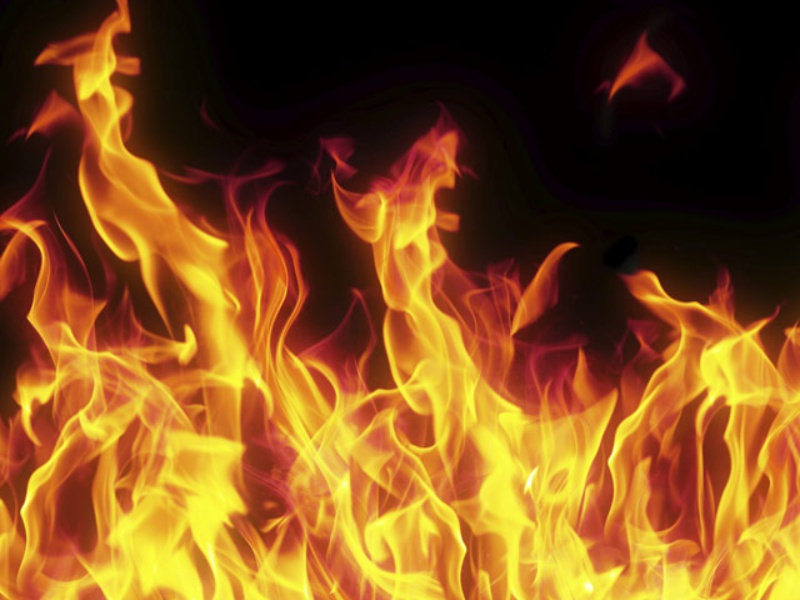fire: (1, 1, 311, 599), (312, 122, 602, 600), (601, 265, 800, 600)
